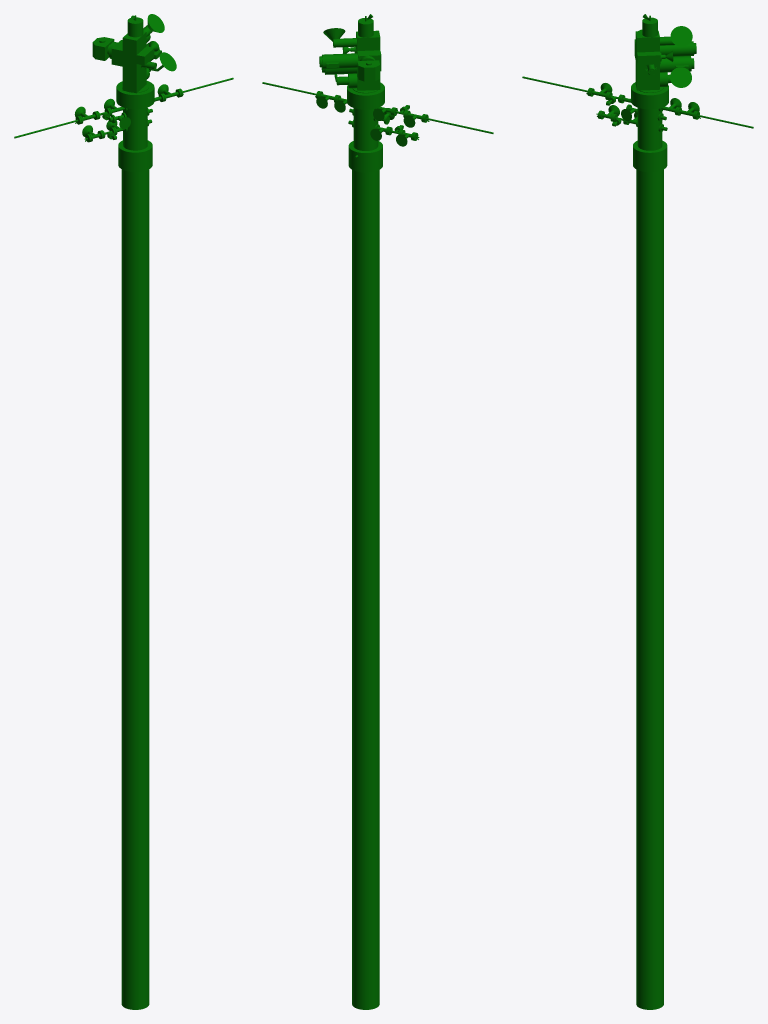
Rendered from Image-1710907725595-2281010255632_WELLHEAD-A6.fbx.
The picture shows the model from 3 angles, left to right: view 1: azimuth 30°, elevation 25°; view 2: azimuth 150°, elevation 25°; view 3: azimuth 330°, elevation 25°; orthographic projection.
Parts seen in each view (by area): view 1: CYLINDER 1 of SUBEQUIPMENT /WELLHEAD-A6/PRIM, BOX 1 of SUBEQUIPMENT /WELLHEAD-A6/XTREE, CYLINDER 3 of SUBEQUIPMENT /WELLHEAD-A6/PRIM, CYLINDER 2 of SUBEQUIPMENT /WELLHEAD-A6/PRIM, CYLINDER 4 of SUBEQUIPMENT /WELLHEAD-A6/PRIM; view 2: CYLINDER 1 of SUBEQUIPMENT /WELLHEAD-A6/PRIM, CYLINDER 3 of SUBEQUIPMENT /WELLHEAD-A6/PRIM, CYLINDER 2 of SUBEQUIPMENT /WELLHEAD-A6/PRIM, CYLINDER 4 of SUBEQUIPMENT /WELLHEAD-A6/PRIM, BOX 1 of SUBEQUIPMENT /WELLHEAD-A6/XTREE; view 3: CYLINDER 1 of SUBEQUIPMENT /WELLHEAD-A6/PRIM, BOX 1 of SUBEQUIPMENT /WELLHEAD-A6/XTREE, CYLINDER 3 of SUBEQUIPMENT /WELLHEAD-A6/PRIM, CYLINDER 2 of SUBEQUIPMENT /WELLHEAD-A6/PRIM, CYLINDER 4 of SUBEQUIPMENT /WELLHEAD-A6/PRIM.
Boxes of the visible parts, <box> form: CYLINDER 1 of SUBEQUIPMENT /WELLHEAD-A6/PRIM: <box>121,169,149,1009</box>; BOX 1 of SUBEQUIPMENT /WELLHEAD-A6/XTREE: <box>122,31,146,93</box>; CYLINDER 3 of SUBEQUIPMENT /WELLHEAD-A6/PRIM: <box>123,107,147,150</box>; CYLINDER 2 of SUBEQUIPMENT /WELLHEAD-A6/PRIM: <box>118,140,152,171</box>; CYLINDER 4 of SUBEQUIPMENT /WELLHEAD-A6/PRIM: <box>116,81,154,109</box>; CYLINDER 1 of SUBEQUIPMENT /WELLHEAD-A6/PRIM: <box>352,170,379,1009</box>; CYLINDER 3 of SUBEQUIPMENT /WELLHEAD-A6/PRIM: <box>353,108,378,150</box>; CYLINDER 2 of SUBEQUIPMENT /WELLHEAD-A6/PRIM: <box>348,141,382,172</box>; CYLINDER 4 of SUBEQUIPMENT /WELLHEAD-A6/PRIM: <box>347,82,384,109</box>; BOX 1 of SUBEQUIPMENT /WELLHEAD-A6/XTREE: <box>356,30,380,90</box>; CYLINDER 1 of SUBEQUIPMENT /WELLHEAD-A6/PRIM: <box>636,169,663,1009</box>; BOX 1 of SUBEQUIPMENT /WELLHEAD-A6/XTREE: <box>635,30,659,90</box>; CYLINDER 3 of SUBEQUIPMENT /WELLHEAD-A6/PRIM: <box>637,108,662,150</box>; CYLINDER 2 of SUBEQUIPMENT /WELLHEAD-A6/PRIM: <box>633,140,667,172</box>; CYLINDER 4 of SUBEQUIPMENT /WELLHEAD-A6/PRIM: <box>631,82,668,109</box>.
Size of the model in its own units: 7.13 by 1.75 by 30.05.
